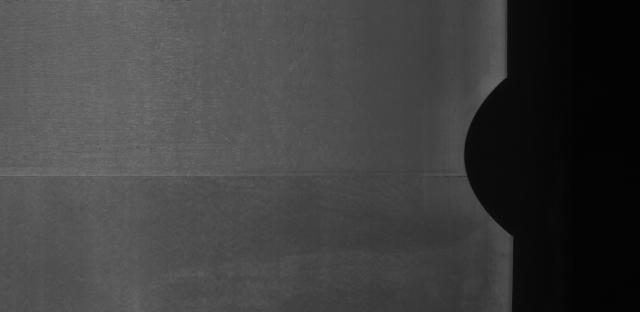welding_line: (2, 164, 496, 187)
